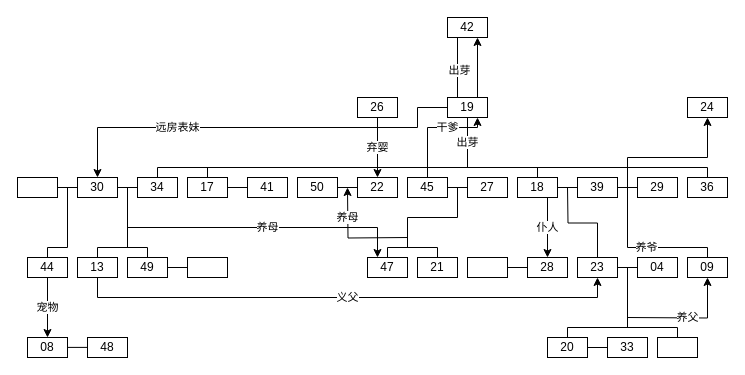
Some shapes in this 745 by 375 pixel diagram are drawn without their labels. Here are the shapes that lost their labels. From the top down, the centre of each, then its label:
At pixel 37 187: "张宽亦".
At pixel 207 267: "尹金可".
At pixel 487 267: "B47".
At pixel 677 347: "蒋子涵".
